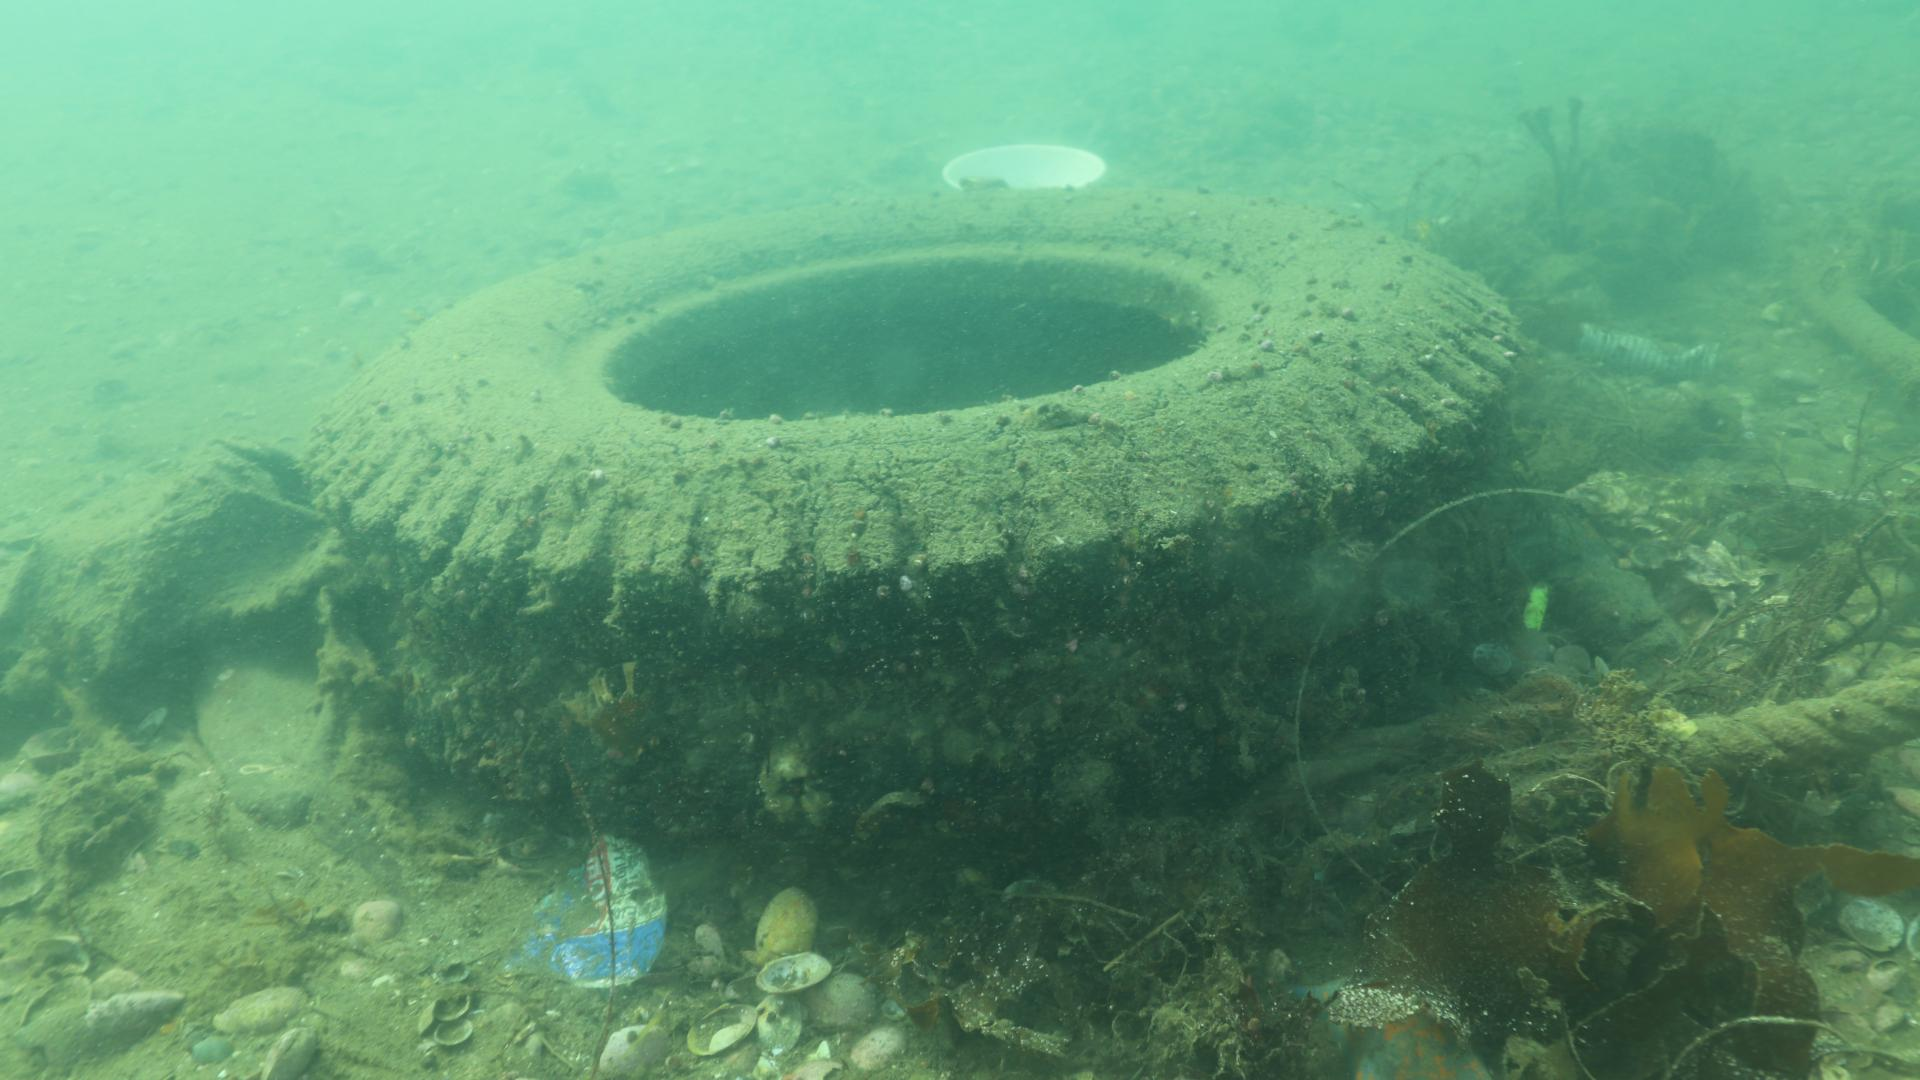rope: (1652, 649, 1920, 786)
tire: (302, 185, 1523, 852)
